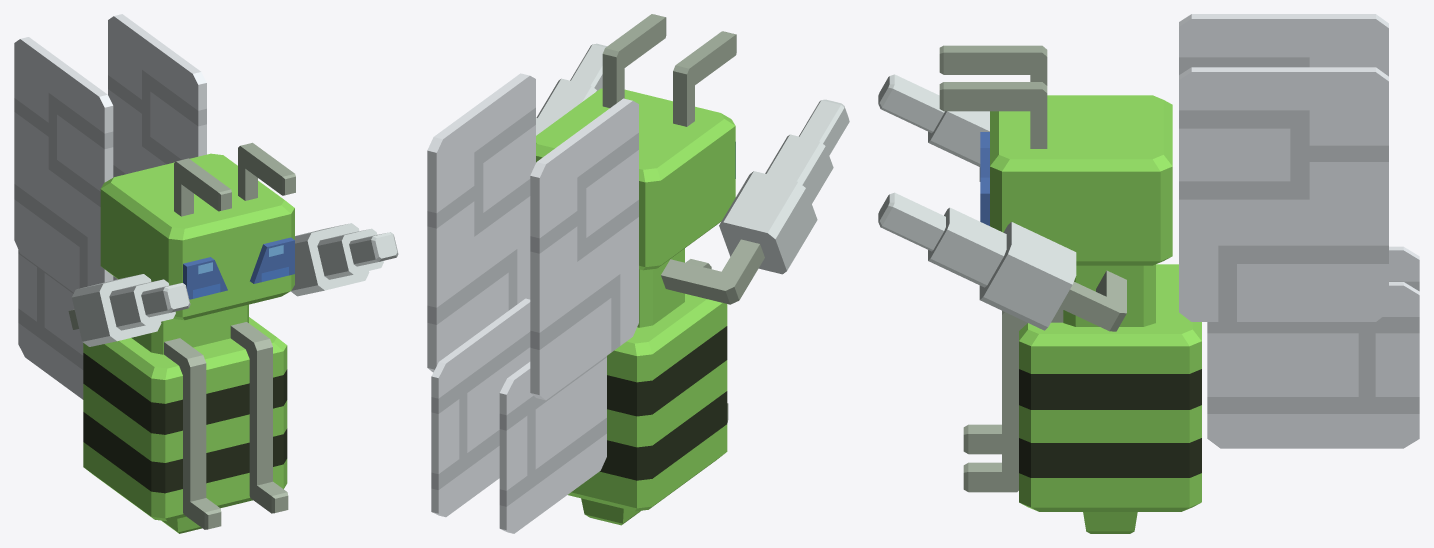
File: model_shiny.obj
The picture shows the model from 3 angles, left to right: view 1: azimuth 30°, elevation 25°; view 2: azimuth 150°, elevation 25°; view 3: azimuth 270°, elevation 25°; orthographic projection. The views are drawn at different scales.
Parts seen in each view (by area): view 1: 0015_beedrill_shiny; view 2: 0015_beedrill_shiny; view 3: 0015_beedrill_shiny.
Part boxes in pixels (x1=…): 0015_beedrill_shiny: x1=14, y1=14, x2=398, y2=533; 0015_beedrill_shiny: x1=427, y1=14, x2=849, y2=533; 0015_beedrill_shiny: x1=878, y1=14, x2=1419, y2=533.
Size of the model in its own units: 1.79 by 2.73 by 2.78.
1 material, 1 textured.
